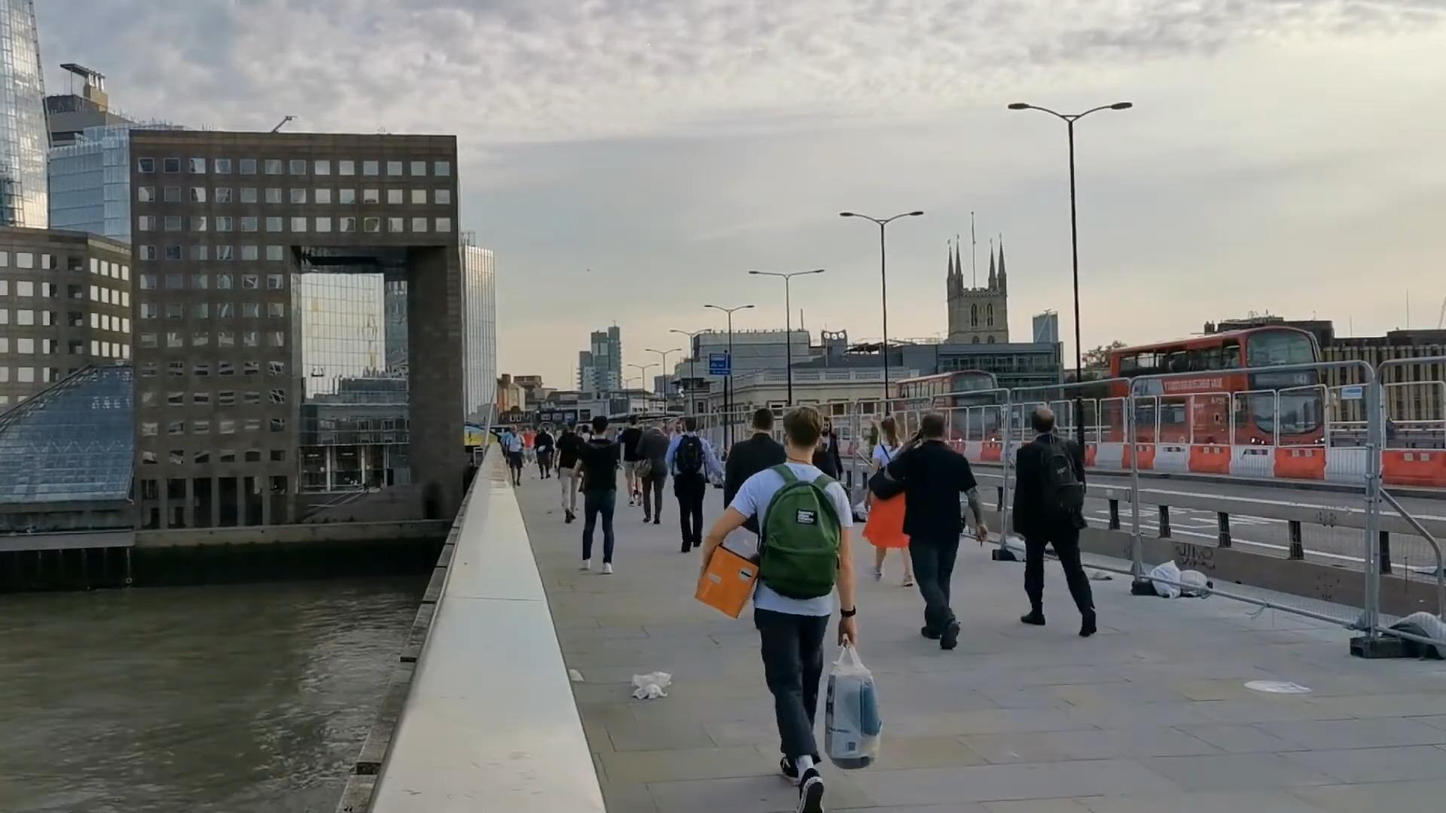no-helmet: (781, 405, 825, 453), (1031, 405, 1055, 438), (920, 414, 947, 443), (752, 407, 775, 434), (881, 415, 898, 443), (592, 415, 609, 435), (684, 416, 697, 433)
